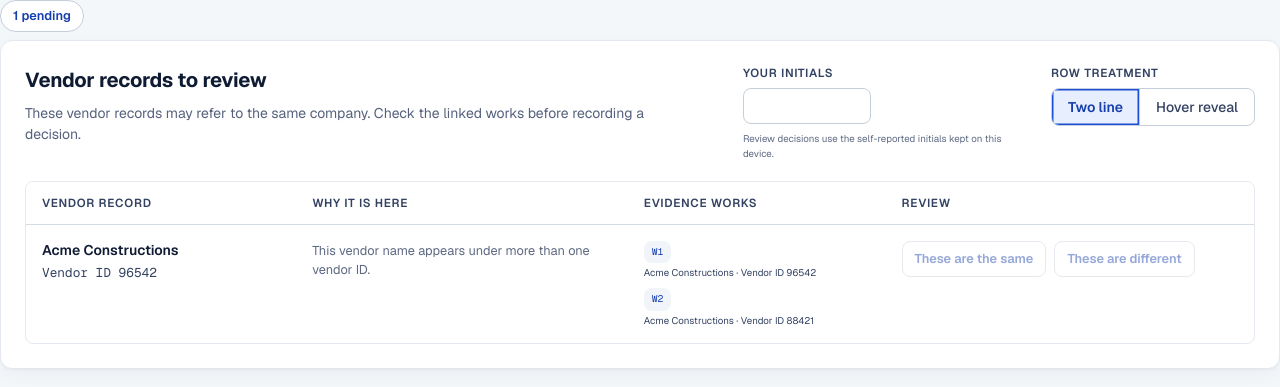
Scenario: AliasReviewQueue › requires self-reported initials and sends the server decision enum
Expected: the button "These are the same" is disabled, [902,241,1046,277]
In the field labelled "Your initials": [807, 106] box [743,88,871,124], type "AB"
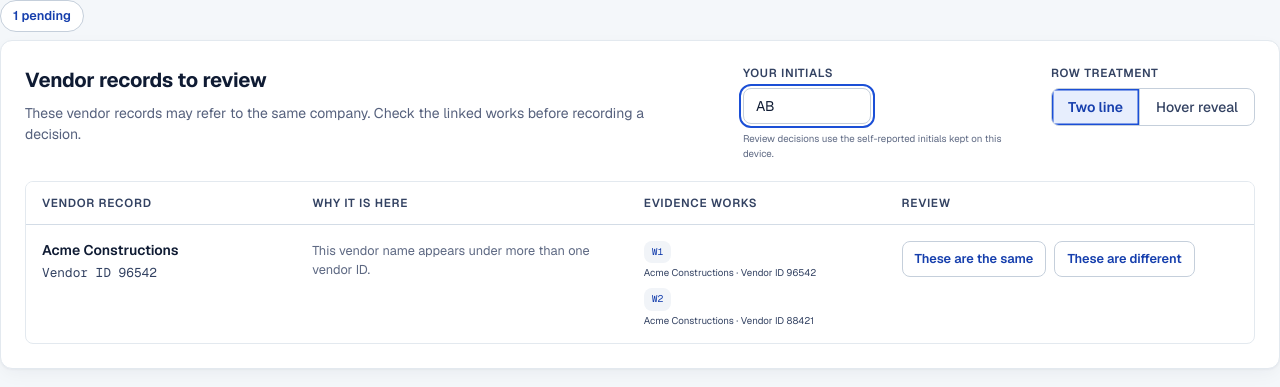
Result: the button "These are the same" is enabled
Click the button "These are the same": [974, 259] box [902,241,1046,277]
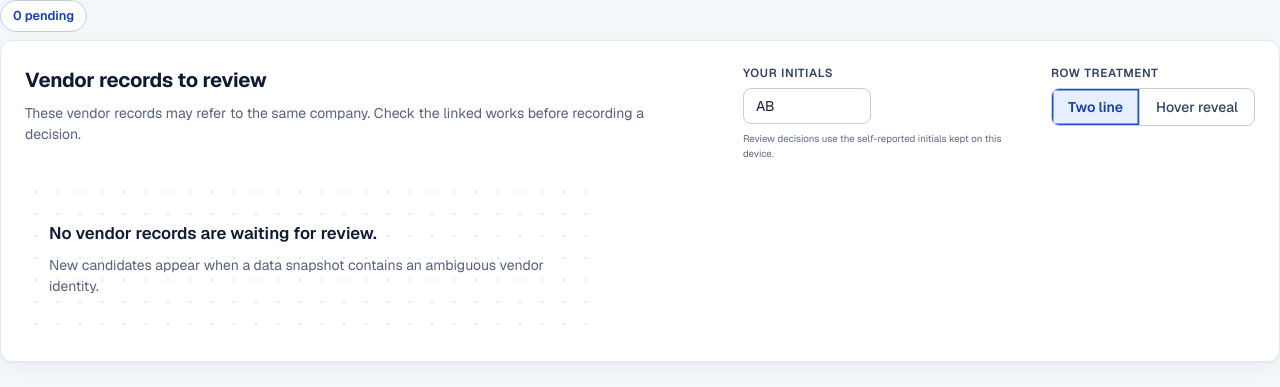
Result: the text "No vendor records are waiting for review." is shown at [49,222,377,244]
